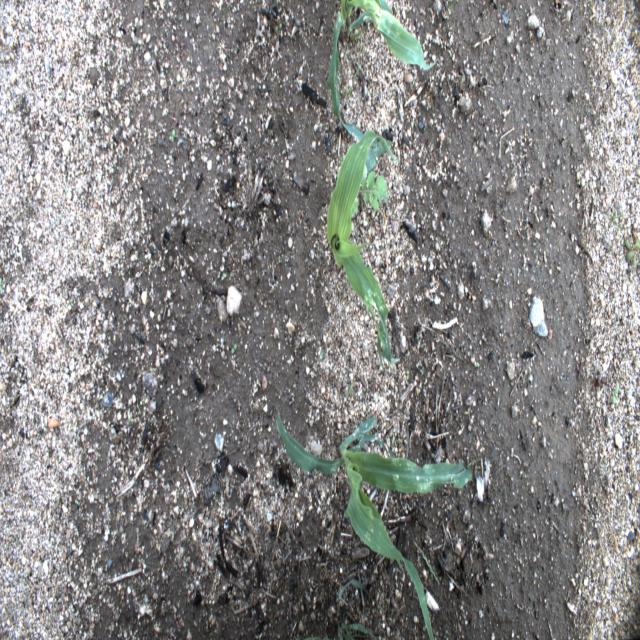crop: (276, 414, 472, 638), (327, 0, 440, 174), (327, 130, 402, 378)
weed: (348, 163, 388, 220), (624, 238, 640, 270)
